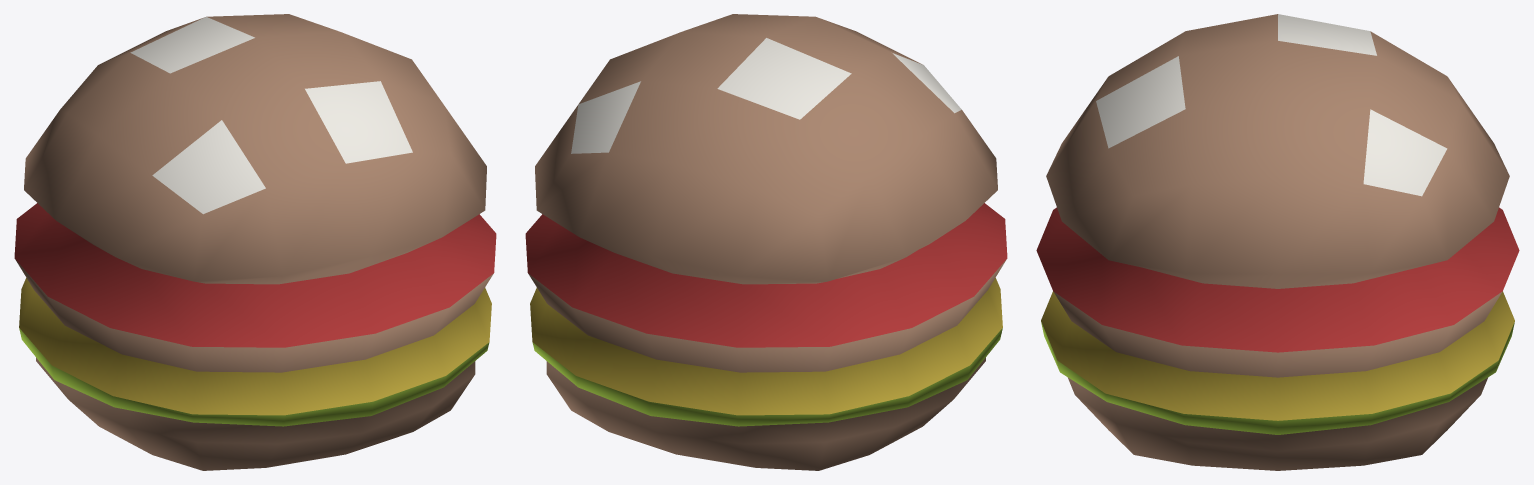
File: BURGER.fbx
3 renders of one model, left to right at view 1: azimuth 30°, elevation 25°; view 2: azimuth 150°, elevation 25°; view 3: azimuth 270°, elevation 25°, orthographic.
Parts seen in each view (by area): view 1: BURGER; view 2: BURGER; view 3: BURGER.
Boxes of the visible parts, bbox=[...] form: BURGER: bbox=[14, 14, 496, 470]; BURGER: bbox=[525, 14, 1007, 470]; BURGER: bbox=[1036, 14, 1519, 470].
Bounding box in the file's own units: 2.27 × 1.83 × 2.27.
